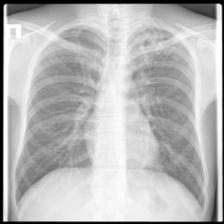tuberculosis: (10, 17, 208, 212)
